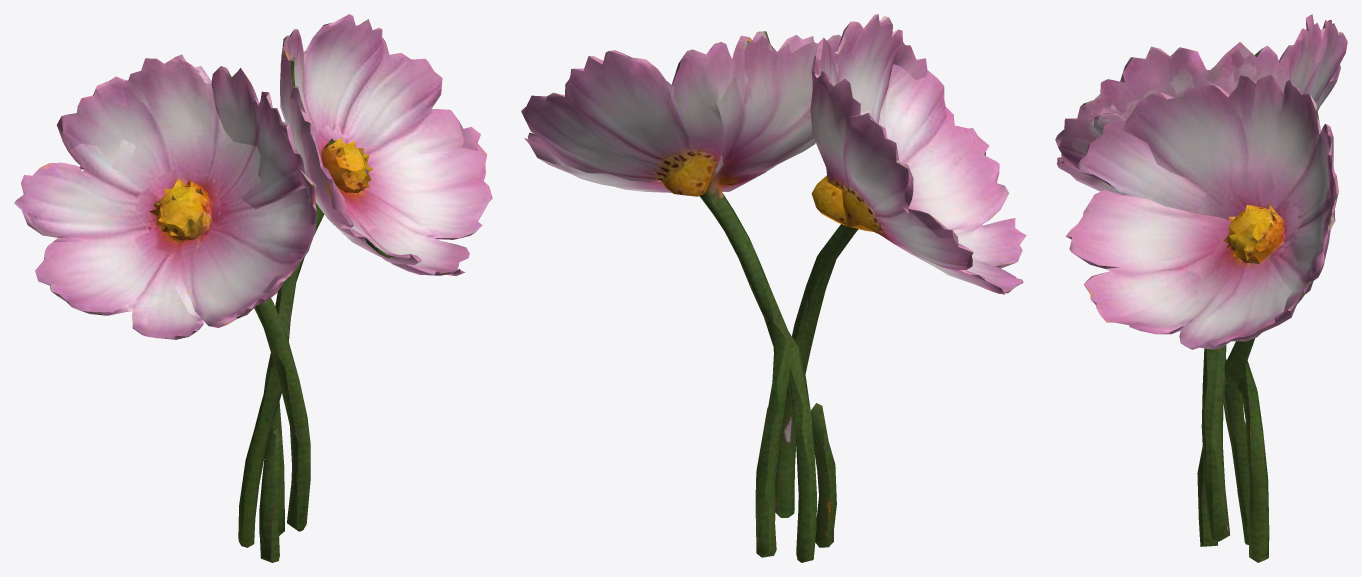
Rendered from cosmos.glb.
The picture shows the model from 3 angles, left to right: view 1: azimuth 30°, elevation 25°; view 2: azimuth 150°, elevation 25°; view 3: azimuth 270°, elevation 25°; orthographic projection. The views are drawn at different scales.
Visible parts, largest first — view 1: cosmos; view 2: cosmos; view 3: cosmos.
Boxes of the visible parts, bbox=[...] form: cosmos: bbox=[14, 14, 492, 562]; cosmos: bbox=[521, 14, 1026, 562]; cosmos: bbox=[1055, 14, 1347, 562].
Bounding box in the file's own units: 0.9592 × 1 × 0.5341.
Materials: 1 (1 with a texture image).
